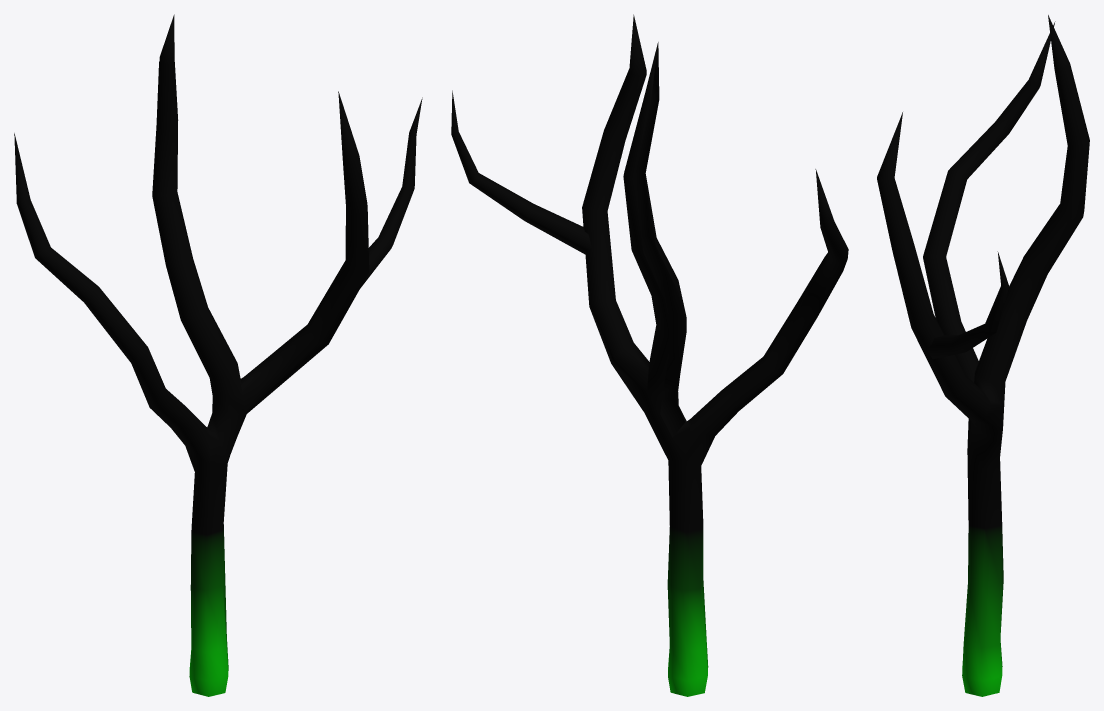
File: SM_Collision_BirchTreeB3.fbx
3 renders of one model, left to right at view 1: azimuth 30°, elevation 25°; view 2: azimuth 150°, elevation 25°; view 3: azimuth 270°, elevation 25°, orthographic. The views are drawn at different scales.
Visible parts, largest first — view 1: Collision_BirchTreeB3; view 2: Collision_BirchTreeB3; view 3: Collision_BirchTreeB3.
Boxes of the visible parts, bbox=[...] form: Collision_BirchTreeB3: bbox=[14, 14, 422, 696]; Collision_BirchTreeB3: bbox=[451, 14, 848, 696]; Collision_BirchTreeB3: bbox=[877, 15, 1089, 696].
Size of the model in its own units: 1208 by 557 by 1944.
